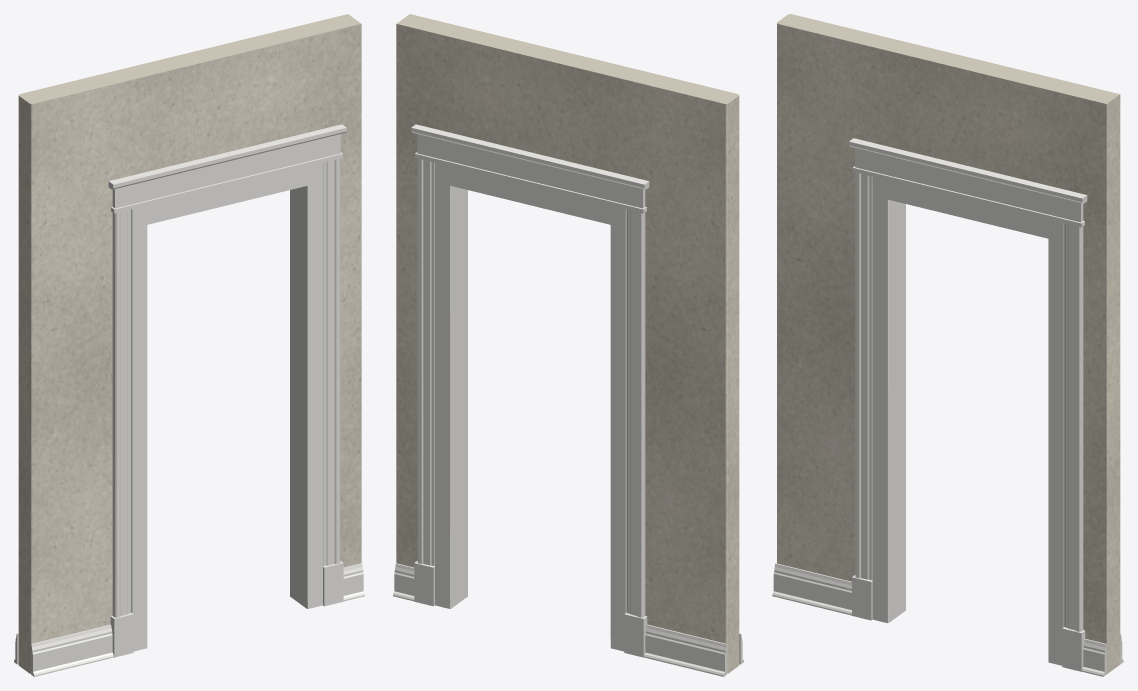
File: interior_wall_end_doorway.glb
3 views of the same model, side by side, from view 1: azimuth 30°, elevation 25°; view 2: azimuth 150°, elevation 25°; view 3: azimuth 330°, elevation 25° (orthographic).
Visible parts, largest first — view 1: interior_wall_end_doorway_plaster, molduras, interior_wall_end_doorway_frame; view 2: interior_wall_end_doorway_plaster, molduras, interior_wall_end_doorway_frame; view 3: interior_wall_end_doorway_plaster, molduras, interior_wall_end_doorway_frame.
Boxes of the visible parts, <box> form: interior_wall_end_doorway_plaster: <box>18,14,361,673</box>; molduras: <box>14,124,364,676</box>; interior_wall_end_doorway_frame: <box>131,163,322,651</box>; interior_wall_end_doorway_plaster: <box>396,14,739,673</box>; molduras: <box>393,124,743,676</box>; interior_wall_end_doorway_frame: <box>435,163,626,651</box>; interior_wall_end_doorway_plaster: <box>777,14,1120,673</box>; molduras: <box>772,138,1123,676</box>; interior_wall_end_doorway_frame: <box>872,176,1064,665</box>.
Size of the model in its own units: 1.7 by 2.8 by 0.204.
Materials: 3 (1 with a texture image).
